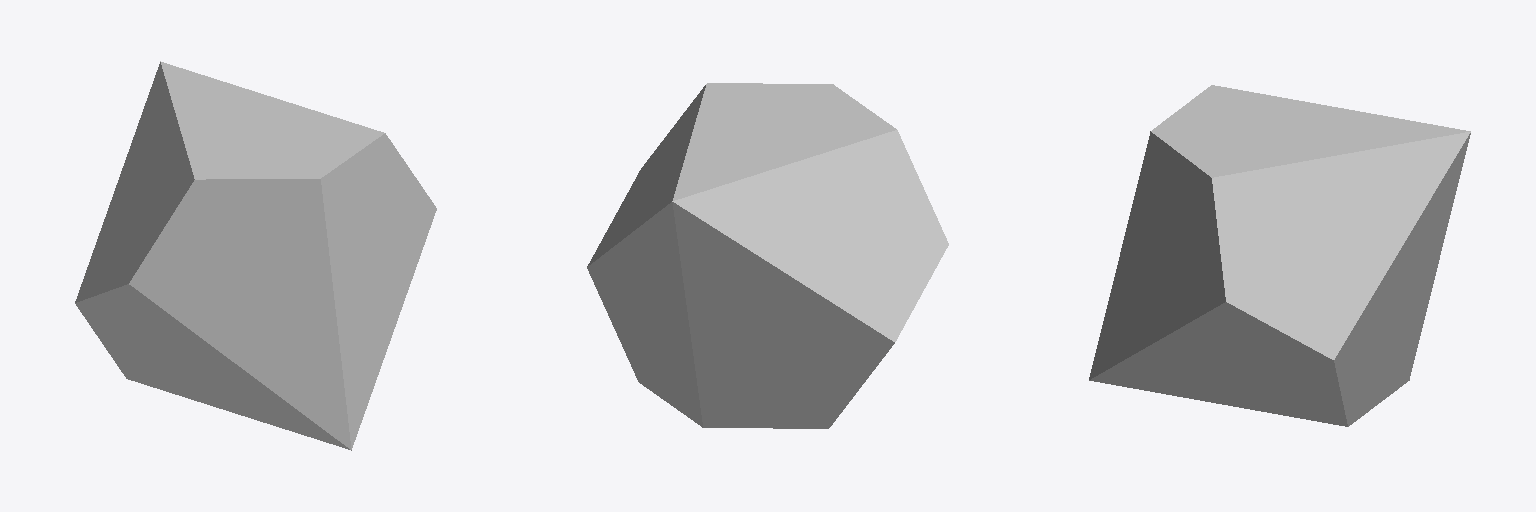
Rendered from d10hitbox.obj.
3 views of the same model, side by side, from view 1: azimuth 30°, elevation 25°; view 2: azimuth 150°, elevation 25°; view 3: azimuth 270°, elevation 25° (orthographic).
Parts seen in each view (by area): view 1: d10_hitbox; view 2: d10_hitbox; view 3: d10_hitbox.
Boxes of the visible parts, x1=… form: d10_hitbox: x1=75, y1=61, x2=436, y2=450; d10_hitbox: x1=587, y1=83, x2=948, y2=428; d10_hitbox: x1=1089, y1=85, x2=1470, y2=426.
Size of the model in its own units: 1.7 by 1.31 by 1.83.